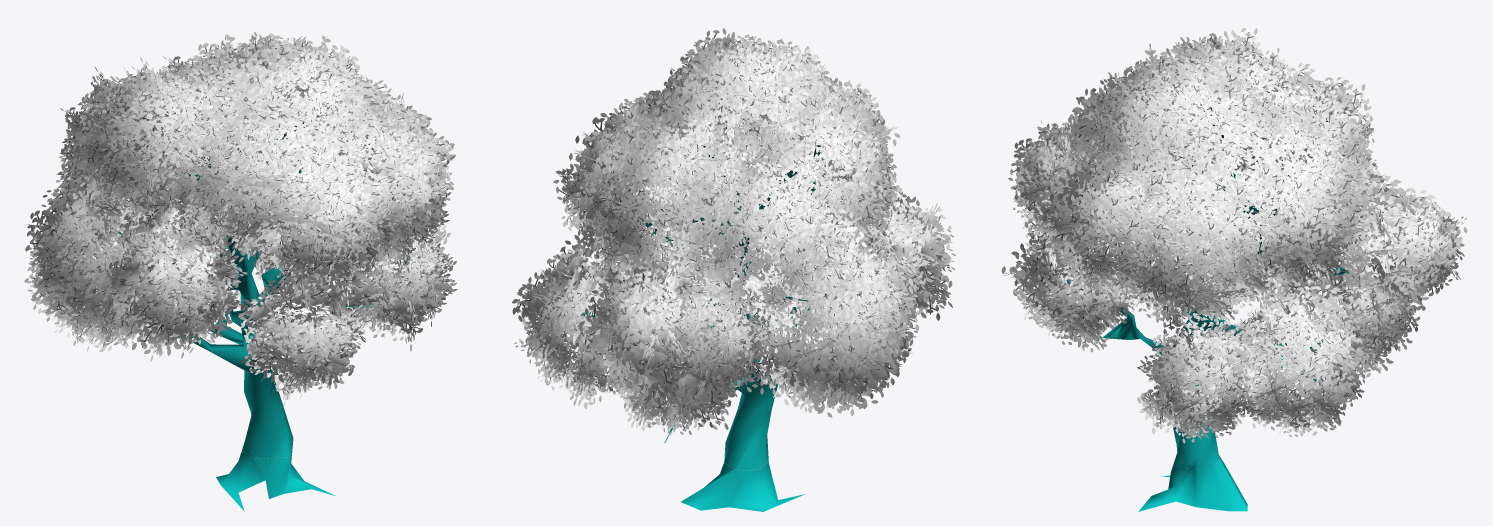
File: HuralyaOak2Separated.fbx
3 views of the same model, side by side, from view 1: azimuth 30°, elevation 25°; view 2: azimuth 150°, elevation 25°; view 3: azimuth 270°, elevation 25° (orthographic). The views are drawn at different scales.
Visible parts, largest first — view 1: BarkAndLeaves, Stump; view 2: BarkAndLeaves, Stump; view 3: BarkAndLeaves, Stump.
Part boxes in pixels (x1=…): BarkAndLeaves: x1=24, y1=32, x2=457, y2=458; Stump: x1=216, y1=451, x2=335, y2=511; BarkAndLeaves: x1=512, y1=28, x2=955, y2=470; Stump: x1=681, y1=456, x2=805, y2=511; BarkAndLeaves: x1=1001, y1=28, x2=1467, y2=469; Stump: x1=1138, y1=455, x2=1247, y2=511.
Bounding box in the file's own units: 1023 × 1109 × 1072.
